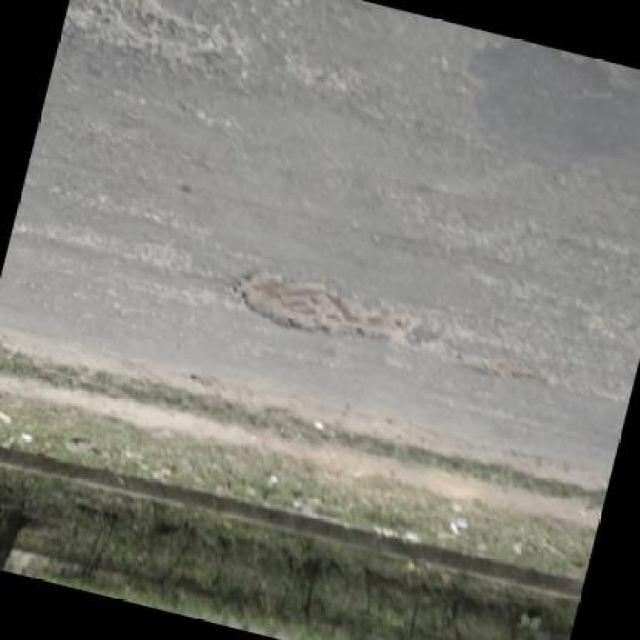pothole: (229, 256, 433, 364)
